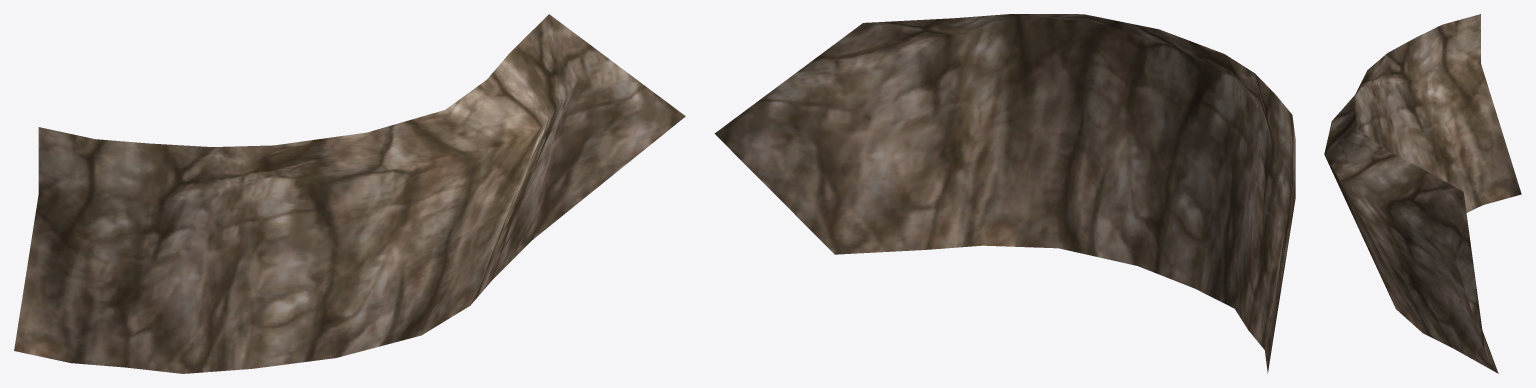
The model's file is OVERHILL_A_01_OBJECT157.fbx.
3 renders of one model, left to right at view 1: azimuth 30°, elevation 25°; view 2: azimuth 150°, elevation 25°; view 3: azimuth 270°, elevation 25°, orthographic. The views are drawn at different scales.
Visible parts, largest first — view 1: OVERHILL_A_01_OBJECT157; view 2: OVERHILL_A_01_OBJECT157; view 3: OVERHILL_A_01_OBJECT157.
Part boxes in pixels (x1,y1,x2,y2): OVERHILL_A_01_OBJECT157: (14, 14, 685, 373); OVERHILL_A_01_OBJECT157: (714, 14, 1295, 373); OVERHILL_A_01_OBJECT157: (1324, 14, 1521, 373).
Size of the model in its own units: 91479 by 32937 by 32880.
Materials: 1 (1 with a texture image).
